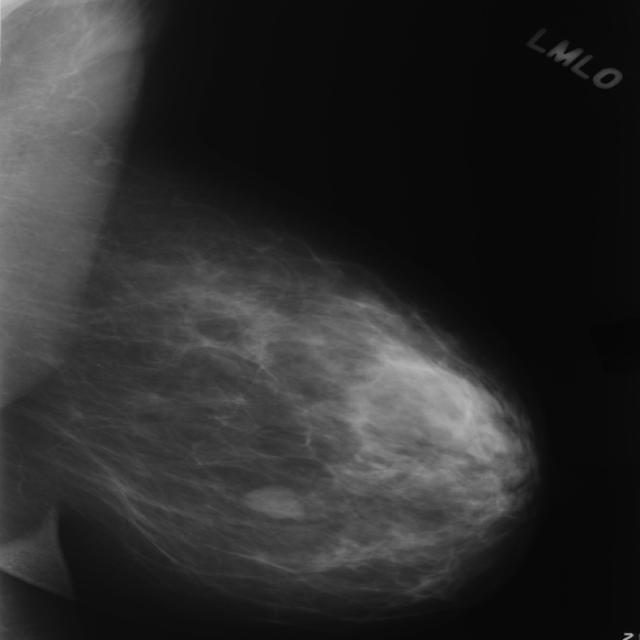tumour: (240, 483, 303, 519)
